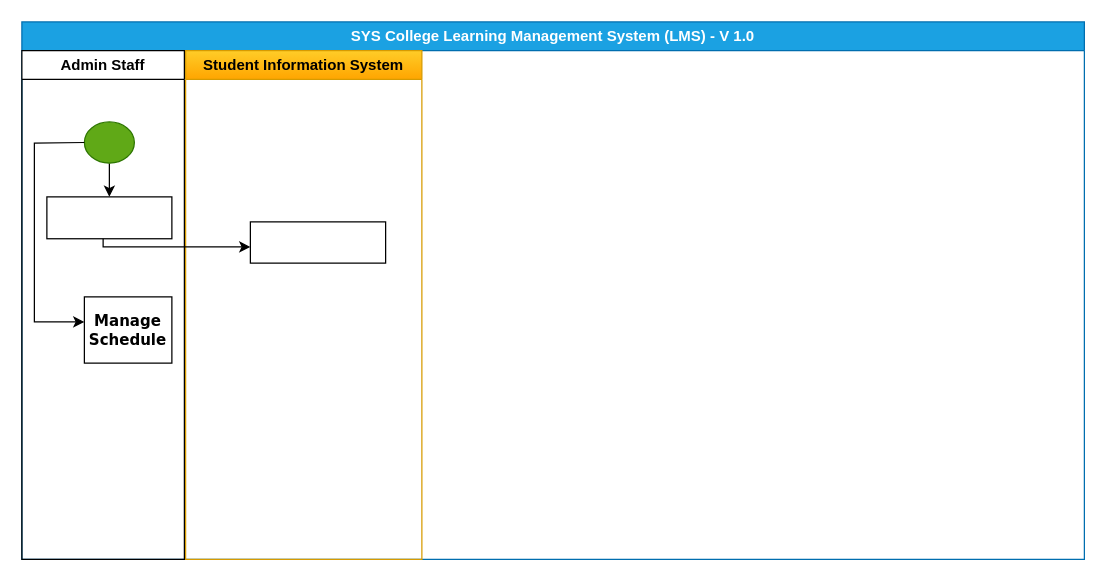
Some shapes in this 1106 by 581 pixel diagram are drawn without their labels. The centre of each missing label's shape, as x and y in pixels:
Enroll Student: the point at 109,217
Sync Student: the point at 317,242
